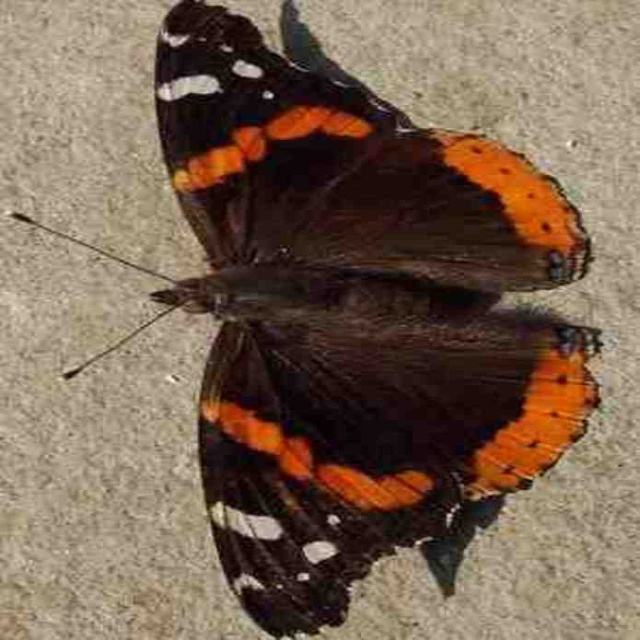Butterfly: (45, 0, 603, 620)
